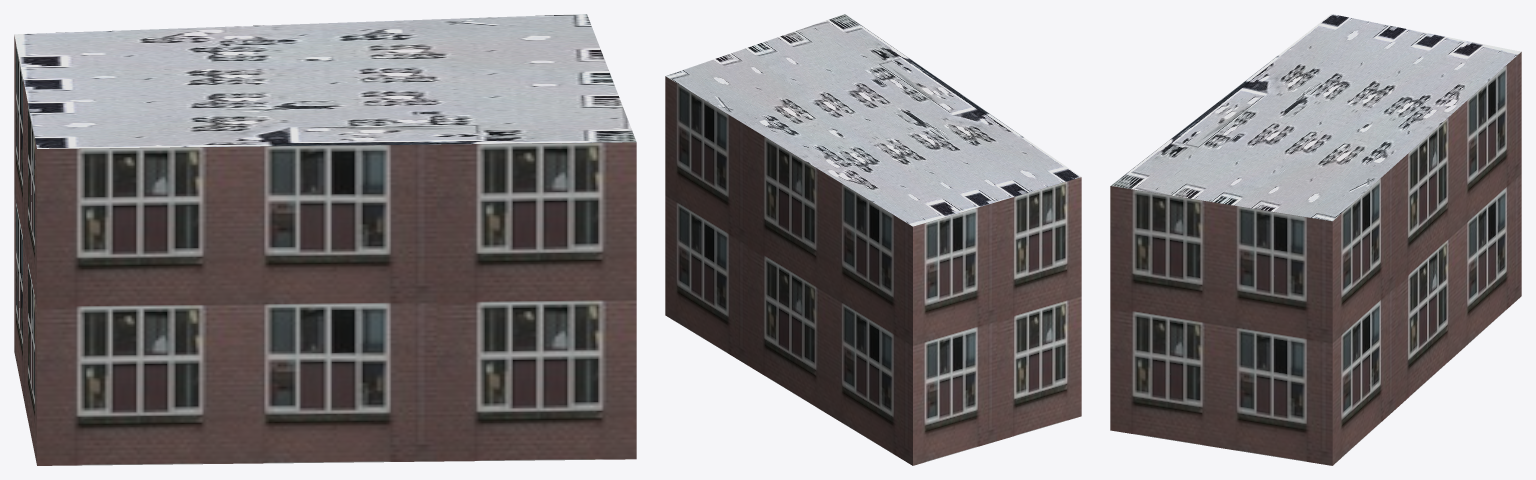
File: ResTex__3290.fbx
3 views of the same model, side by side, from view 1: azimuth 30°, elevation 25°; view 2: azimuth 150°, elevation 25°; view 3: azimuth 270°, elevation 25° (orthographic). The views are drawn at different scales.
Parts seen in each view (by area): view 1: CityEngineMaterial_12_m, CityEngineMaterial_m; view 2: CityEngineMaterial_12_m, CityEngineMaterial_m; view 3: CityEngineMaterial_12_m, CityEngineMaterial_m.
Part boxes in pixels (x1,y1,x2,y2): CityEngineMaterial_12_m: (14,36,636,465); CityEngineMaterial_m: (14,14,636,148); CityEngineMaterial_12_m: (665,76,1081,465); CityEngineMaterial_m: (665,14,1081,226); CityEngineMaterial_12_m: (1110,52,1521,465); CityEngineMaterial_m: (1111,14,1520,221).
Bounding box in the file's own units: 10.91 × 6 × 9.14.
Materials: 2 (2 with a texture image).
